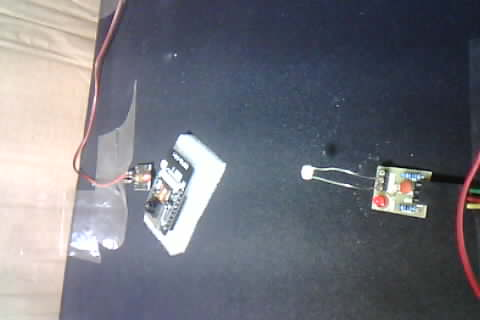esp32: (143, 125, 224, 251)
